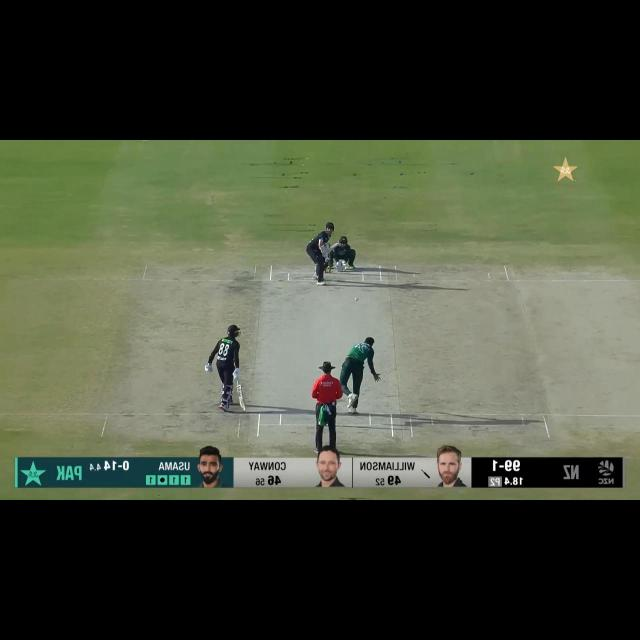bat: (236, 386, 247, 413), (327, 243, 340, 252)
toe: (239, 404, 247, 413), (333, 242, 340, 248)
